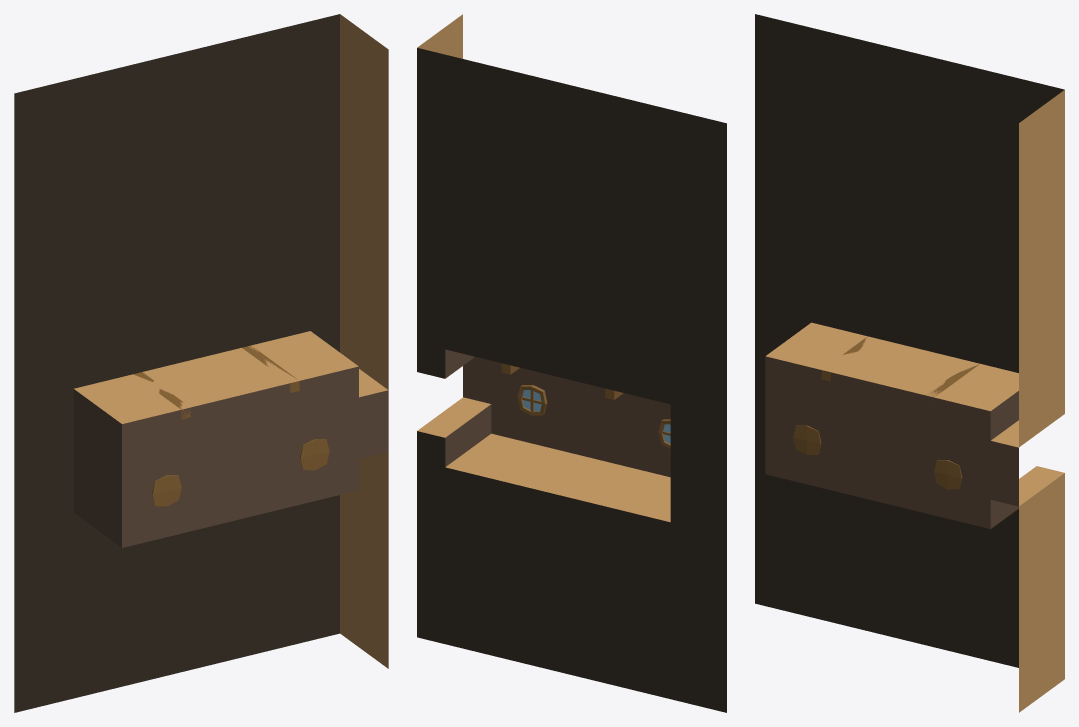
Rendered from Ende.fbx.
3 views of the same model, side by side, from view 1: azimuth 30°, elevation 25°; view 2: azimuth 150°, elevation 25°; view 3: azimuth 330°, elevation 25° (orthographic). The views are drawn at different scales.
Visible parts, largest first — view 1: Plane.006; view 2: Plane.006; view 3: Plane.006.
Boxes of the visible parts, x1,y1,x2,y2 form: Plane.006: [14, 14, 388, 712]; Plane.006: [417, 14, 726, 712]; Plane.006: [755, 14, 1064, 712].
Bounding box in the file's own units: 2200 × 4000 × 575.
